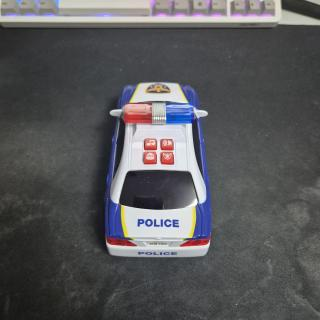Police_car: (104, 82, 211, 257)
